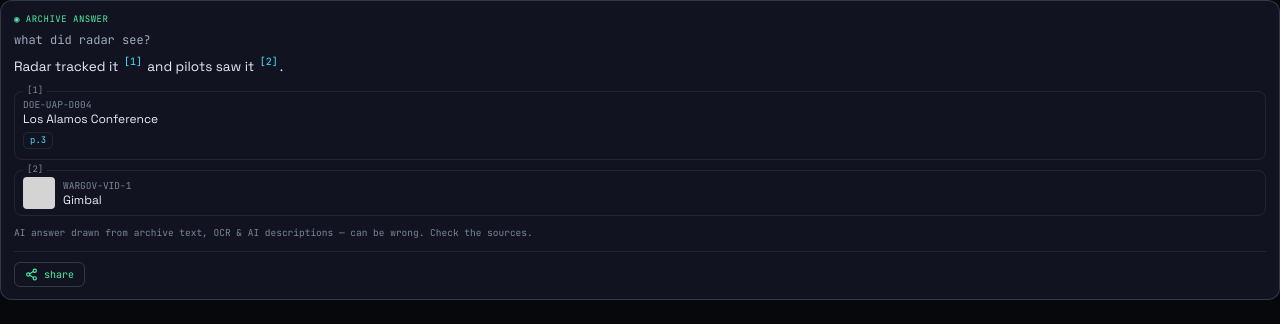
Test: AskAnswer › when neither share sheet nor clipboard works, the link is shown to copy by hand
The width and height of the screenshot is (1280, 324).
Step 1. Click the button "share" → [50, 274], box [14,262,85,287]
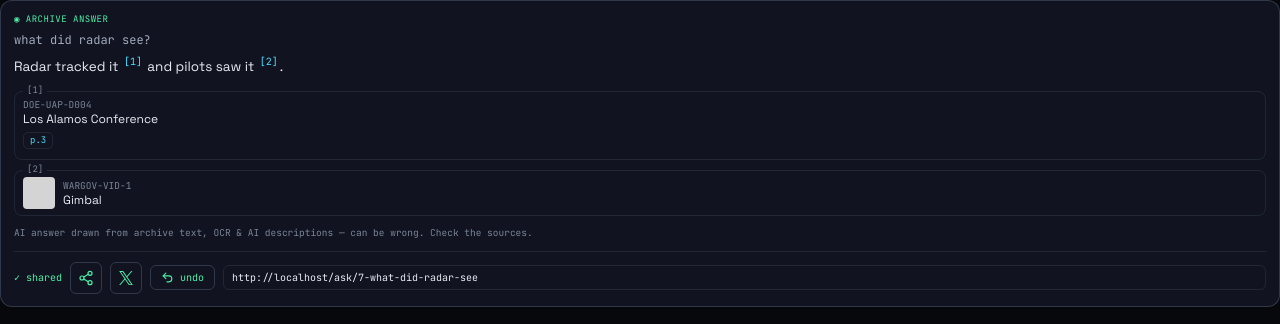
Expected: the field showing "share link" is shown, [223,265,1266,290]
